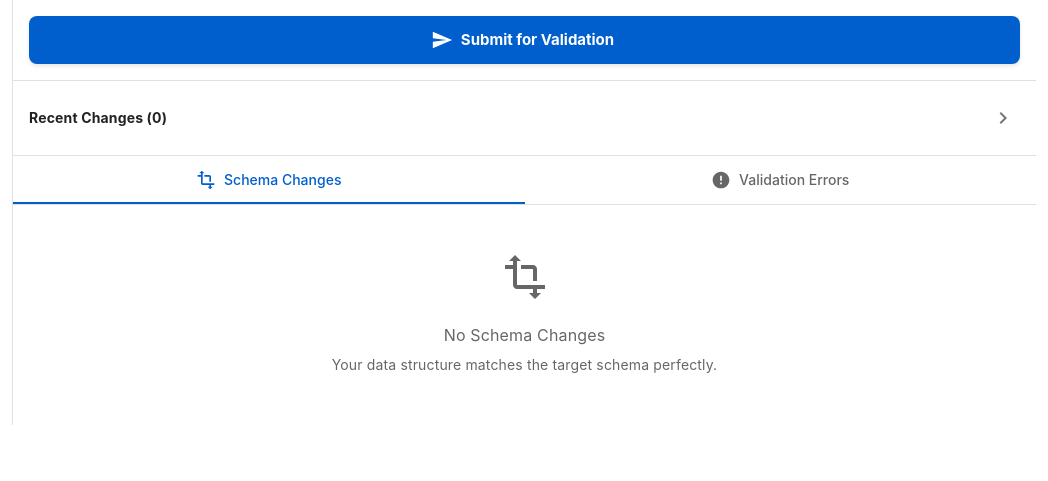
it: Custom Error Message Complete Workflow Integration › End-to-End API to Display Workflow › should handle complete workflow from API response to error display
// Simulate validation submission
Click the button "Submit for Validation". click: point(524, 40)
box: [29,16,1020,64]
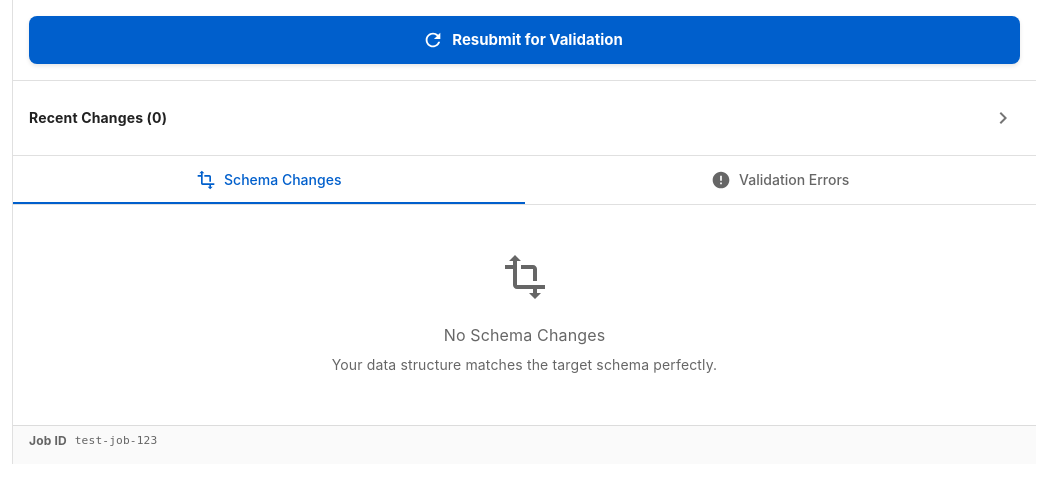
Expected: the text "test-job-123" is shown, [75,434,157,447]
